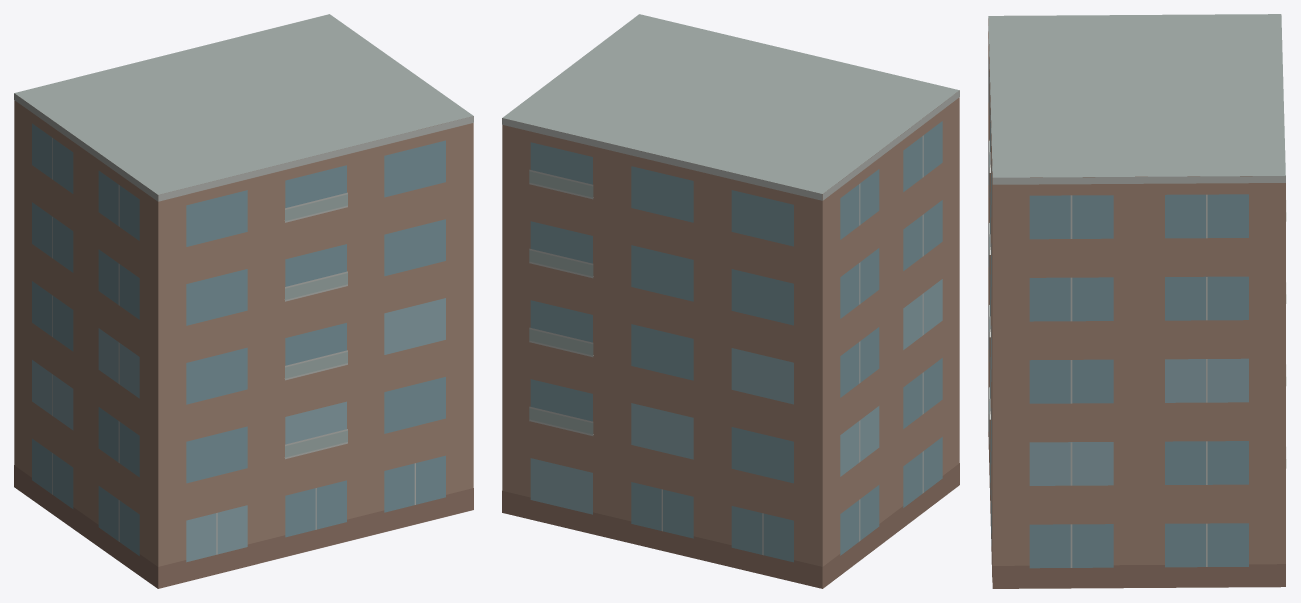
The model's file is survey-upis-32874581.glb.
3 views of the same model, side by side, from view 1: azimuth 30°, elevation 25°; view 2: azimuth 150°, elevation 25°; view 3: azimuth 270°, elevation 25° (orthographic). The views are drawn at different scales.
Parts seen in each view (by area): view 1: survey-upis-32874581.tmp; view 2: survey-upis-32874581.tmp; view 3: survey-upis-32874581.tmp.
Part boxes in pixels (x1=…): survey-upis-32874581.tmp: x1=14, y1=14, x2=473, y2=588; survey-upis-32874581.tmp: x1=502, y1=14, x2=959, y2=588; survey-upis-32874581.tmp: x1=988, y1=14, x2=1286, y2=588.
Size of the model in its own units: 12.09 by 14.15 by 9.31.
